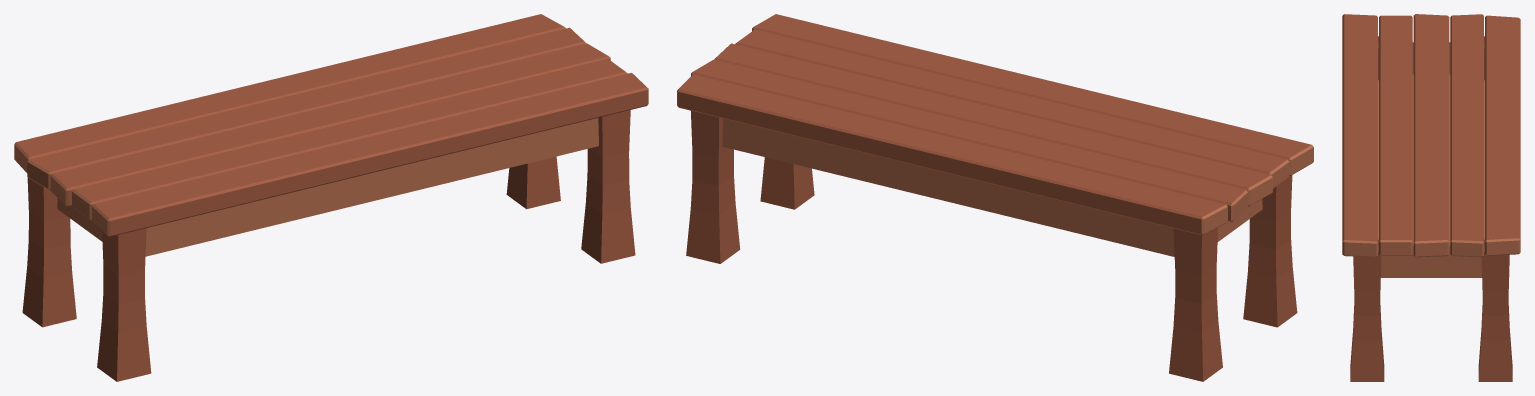
The model's file is Bench.fbx.
3 renders of one model, left to right at view 1: azimuth 30°, elevation 25°; view 2: azimuth 150°, elevation 25°; view 3: azimuth 270°, elevation 25°, orthographic. The views are drawn at different scales.
Visible parts, largest first — view 1: Bench; view 2: Bench; view 3: Bench.
Boxes of the visible parts, x1=… form: Bench: x1=14, y1=14, x2=648, y2=381; Bench: x1=677, y1=14, x2=1313, y2=381; Bench: x1=1342, y1=14, x2=1520, y2=381.
Size of the model in its own units: 3.04 by 1 by 0.9.
